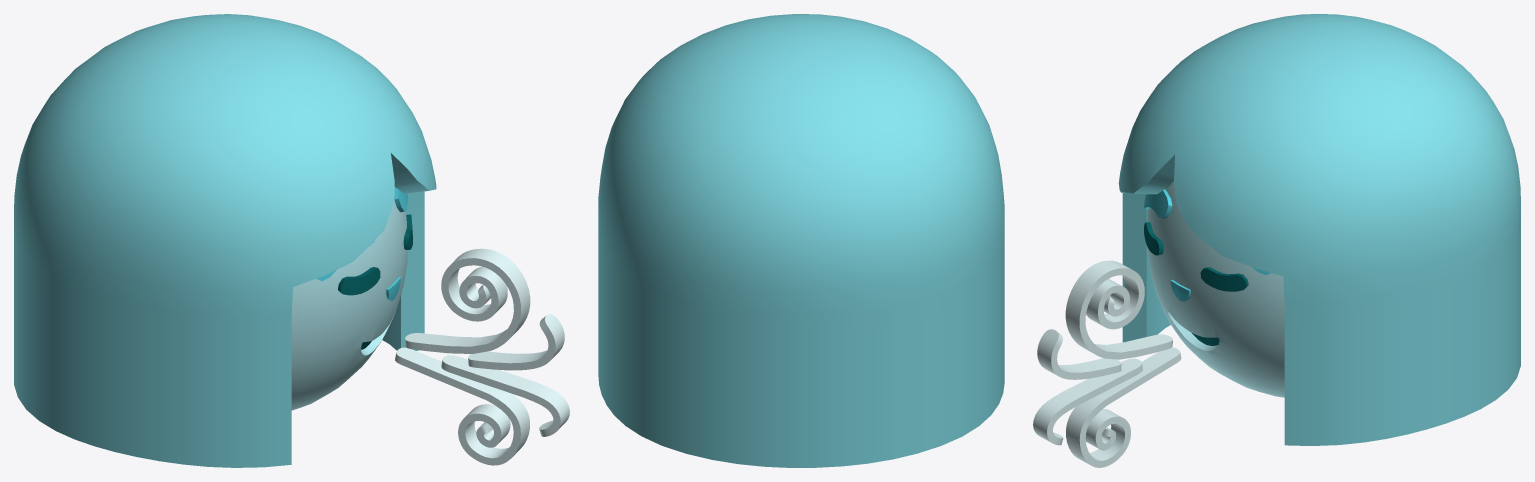
Rendered from wind_face.glb.
3 renders of one model, left to right at view 1: azimuth 30°, elevation 25°; view 2: azimuth 150°, elevation 25°; view 3: azimuth 270°, elevation 25°, orthographic. The views are drawn at different scales.
Visible parts, largest first — view 1: Roundcube.428; view 2: Roundcube.428; view 3: Roundcube.428.
Boxes of the visible parts, bbox=[...] form: Roundcube.428: bbox=[14, 14, 569, 467]; Roundcube.428: bbox=[598, 14, 1004, 467]; Roundcube.428: bbox=[1033, 14, 1520, 467].
Bounding box in the file's own units: 1.67 × 1.56 × 1.94.
1 material, 1 textured.
